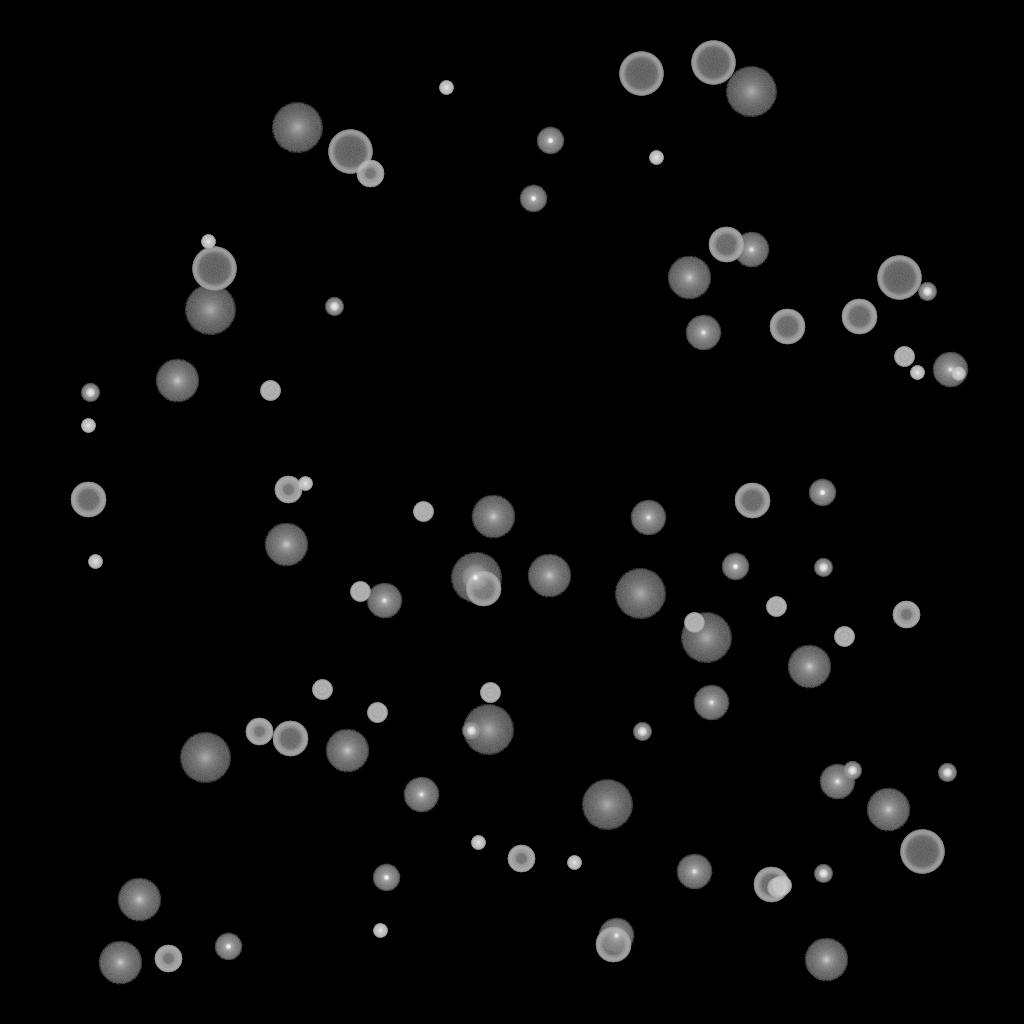depth:-10: (721, 553, 749, 581), (519, 185, 547, 213), (372, 864, 400, 892), (536, 127, 564, 155), (214, 933, 242, 961), (461, 564, 489, 592), (808, 479, 836, 507)
depth:-20: (462, 722, 480, 740), (918, 283, 936, 301), (325, 298, 343, 316), (814, 559, 832, 577), (938, 764, 956, 782), (843, 762, 861, 780), (81, 384, 99, 402), (814, 865, 832, 883), (633, 723, 651, 741)
depth:-30: (81, 419, 95, 433), (88, 555, 102, 569), (471, 836, 485, 850), (567, 856, 581, 870), (439, 81, 453, 95), (951, 367, 965, 381), (298, 477, 312, 491), (910, 366, 924, 380), (201, 235, 215, 249), (649, 151, 663, 165), (373, 924, 387, 938)
depth:-40: (312, 680, 332, 700), (771, 876, 791, 896), (834, 627, 854, 647), (480, 683, 500, 703), (684, 613, 704, 633), (367, 703, 387, 723), (413, 502, 433, 522), (767, 878, 787, 898), (350, 582, 370, 602), (766, 597, 786, 617), (260, 381, 280, 401), (894, 347, 914, 367)
depth:-50: (154, 945, 182, 973), (356, 160, 384, 188), (274, 476, 302, 504), (892, 601, 920, 629), (245, 718, 273, 746), (507, 845, 535, 873)
depth:-60: (769, 309, 805, 345), (753, 867, 789, 903), (734, 483, 770, 519), (841, 299, 877, 335), (272, 721, 308, 757), (465, 571, 501, 607), (708, 227, 744, 263), (70, 482, 106, 518), (595, 927, 631, 963)
depth:-70: (328, 130, 372, 174), (192, 247, 236, 291), (691, 41, 735, 85), (619, 52, 663, 96), (900, 830, 944, 874), (877, 256, 921, 300)
depth:0: (693, 685, 729, 721), (403, 777, 439, 813), (598, 918, 634, 954), (630, 500, 666, 536), (676, 854, 712, 890), (733, 232, 769, 268), (685, 315, 721, 351), (366, 583, 402, 619), (819, 764, 855, 800), (932, 352, 968, 388)
depth:10: (787, 645, 831, 689), (264, 523, 308, 567), (804, 938, 848, 982), (471, 495, 515, 539), (667, 256, 711, 300), (866, 788, 910, 832), (98, 941, 142, 985), (527, 554, 571, 598), (155, 359, 199, 403), (325, 729, 369, 773), (117, 878, 161, 922)
depth:20: (614, 569, 666, 619), (680, 613, 732, 663), (184, 285, 236, 335), (462, 705, 514, 755), (271, 103, 323, 153), (179, 733, 231, 783), (450, 553, 502, 603), (581, 780, 633, 830), (725, 67, 777, 117)
